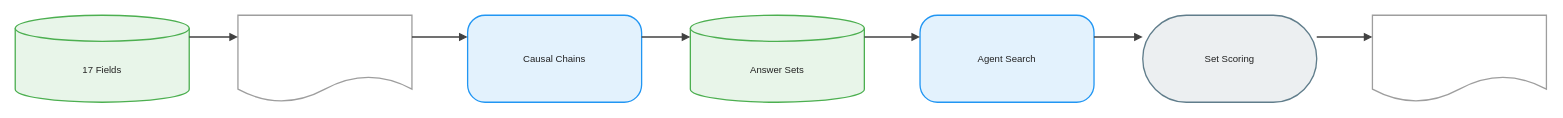
This 1563x118 diagram has some shape labels left out. The box of each missing label's shape, as (x1, y1, x2, y2) in pixels:
900 Prompts: (237, 14, 412, 102)
Failure Modes: (1371, 14, 1547, 102)
